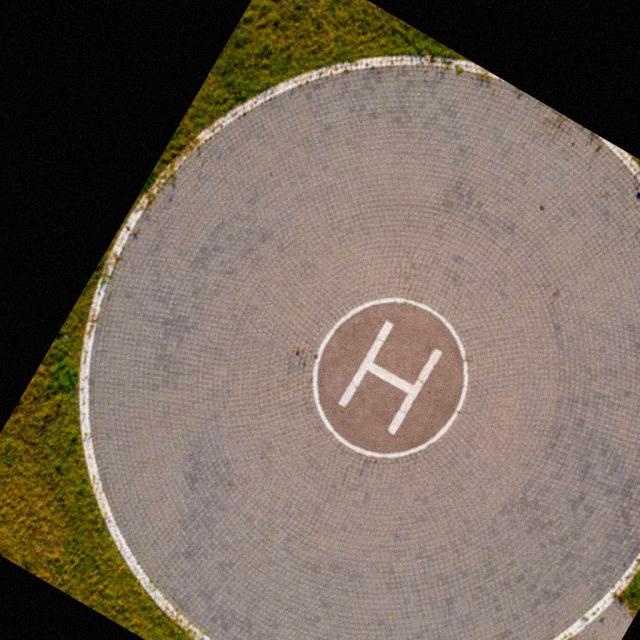helipad: (310, 291, 472, 460)
